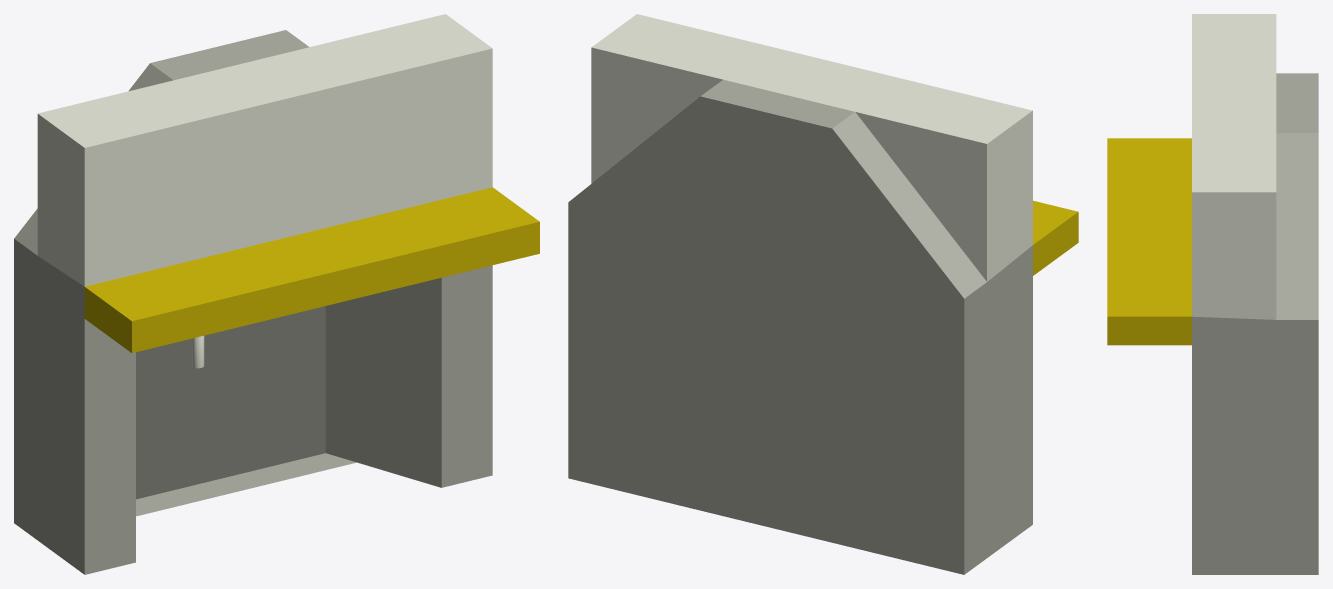
File: hearth_plus_wall.glb
3 renders of one model, left to right at view 1: azimuth 30°, elevation 25°; view 2: azimuth 150°, elevation 25°; view 3: azimuth 270°, elevation 25°, orthographic. The views are drawn at different scales.
Visible parts, largest first — view 1: Cube2; view 2: Cube2; view 3: Cube2.
Part boxes in pixels (x1,y1,x2,y2): Cube2: [14, 14, 539, 574]; Cube2: [568, 14, 1078, 574]; Cube2: [1107, 14, 1318, 574].
Bounding box in the file's own units: 1 × 1 × 0.5.
